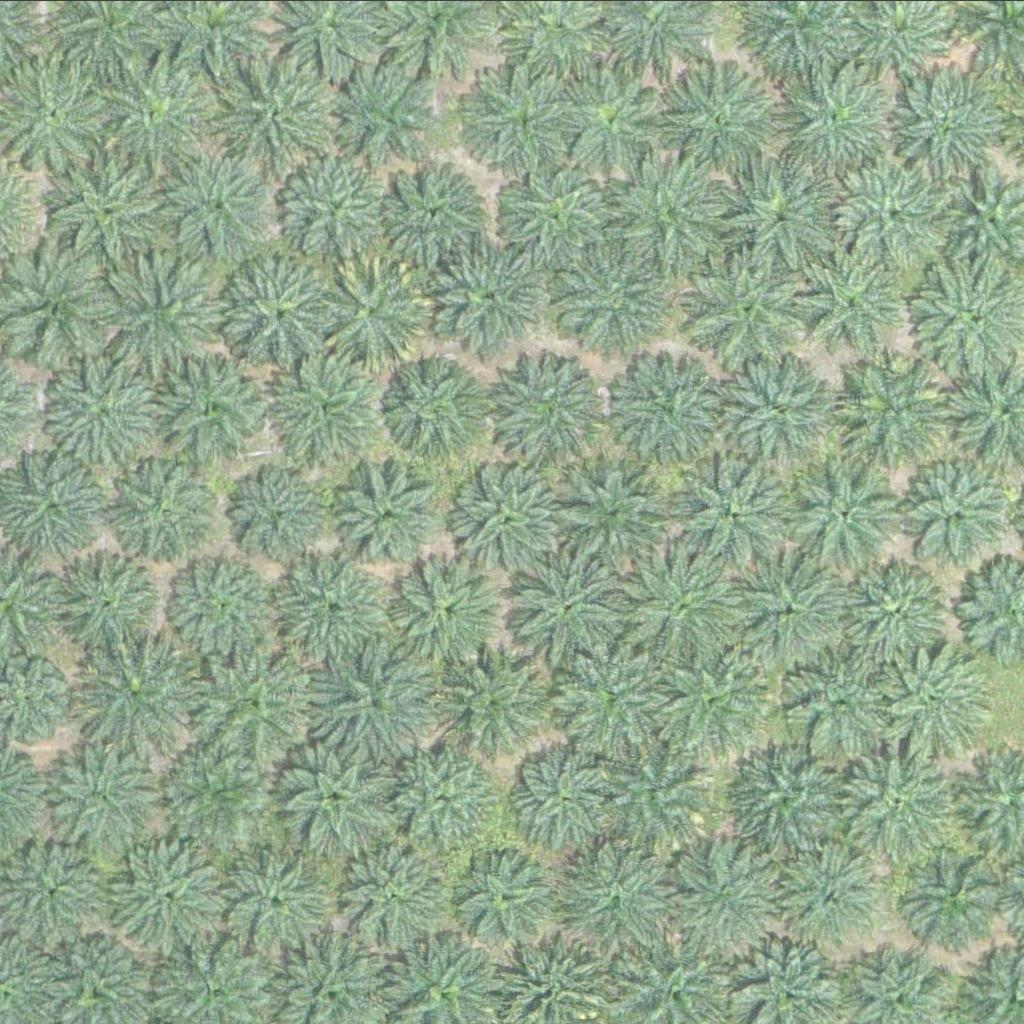Kelapa_Sawit: (219, 55, 345, 180), (91, 48, 217, 173), (51, 151, 177, 276), (223, 253, 349, 378), (102, 259, 228, 384), (150, 344, 276, 469), (320, 642, 446, 767), (74, 627, 200, 752), (283, 731, 409, 856), (459, 56, 585, 181), (495, 149, 621, 274), (671, 834, 797, 959), (561, 833, 687, 958), (724, 736, 850, 861), (835, 740, 961, 865), (880, 632, 1006, 757), (782, 639, 908, 764), (619, 547, 745, 672), (723, 545, 849, 670), (830, 549, 956, 674), (784, 451, 910, 576), (487, 344, 613, 469), (605, 341, 731, 466), (831, 345, 957, 470), (687, 248, 813, 373), (555, 241, 681, 366), (427, 236, 553, 361), (618, 152, 744, 277), (721, 158, 847, 283), (843, 150, 969, 275), (894, 63, 1020, 188), (780, 55, 906, 180), (659, 60, 785, 185), (320, 246, 445, 371), (262, 344, 387, 469), (505, 546, 630, 671), (667, 445, 792, 570), (555, 445, 680, 570), (718, 345, 843, 470), (220, 842, 334, 955), (343, 829, 457, 942), (337, 61, 450, 174), (163, 147, 276, 260), (277, 149, 390, 262), (160, 548, 273, 661), (117, 833, 230, 946), (389, 737, 502, 850), (553, 644, 666, 757), (508, 742, 621, 855), (606, 735, 719, 848), (52, 353, 165, 465), (281, 545, 394, 657), (198, 651, 311, 763), (52, 740, 165, 852), (896, 837, 1009, 949), (432, 645, 545, 757), (394, 549, 507, 661), (378, 167, 479, 267), (378, 357, 479, 457), (338, 462, 439, 562), (231, 470, 332, 570), (114, 460, 215, 560), (59, 554, 160, 654), (165, 748, 266, 848), (3, 829, 104, 929), (458, 847, 559, 947), (659, 649, 760, 749), (461, 467, 562, 567), (805, 250, 906, 350), (791, 837, 891, 937), (567, 69, 667, 169)
